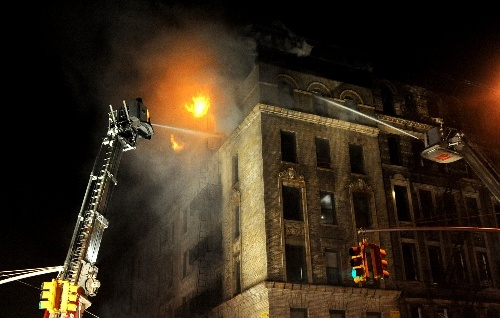fire: (185, 93, 213, 119), (168, 132, 183, 151)
